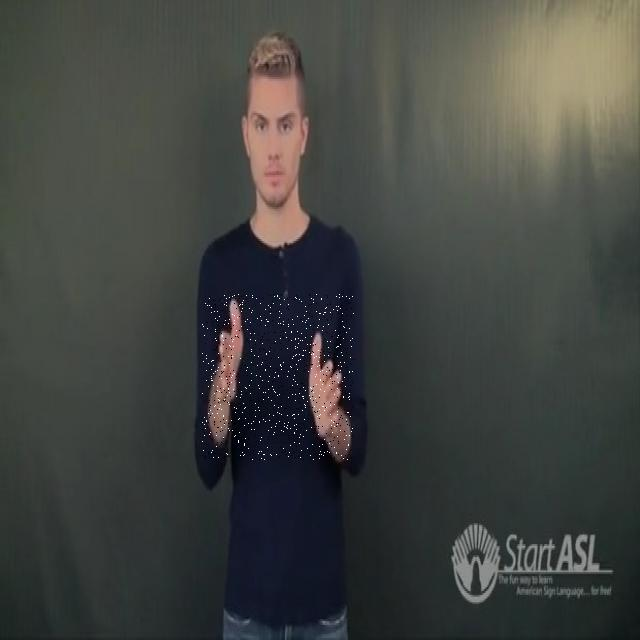manager: (202, 294, 354, 460)
